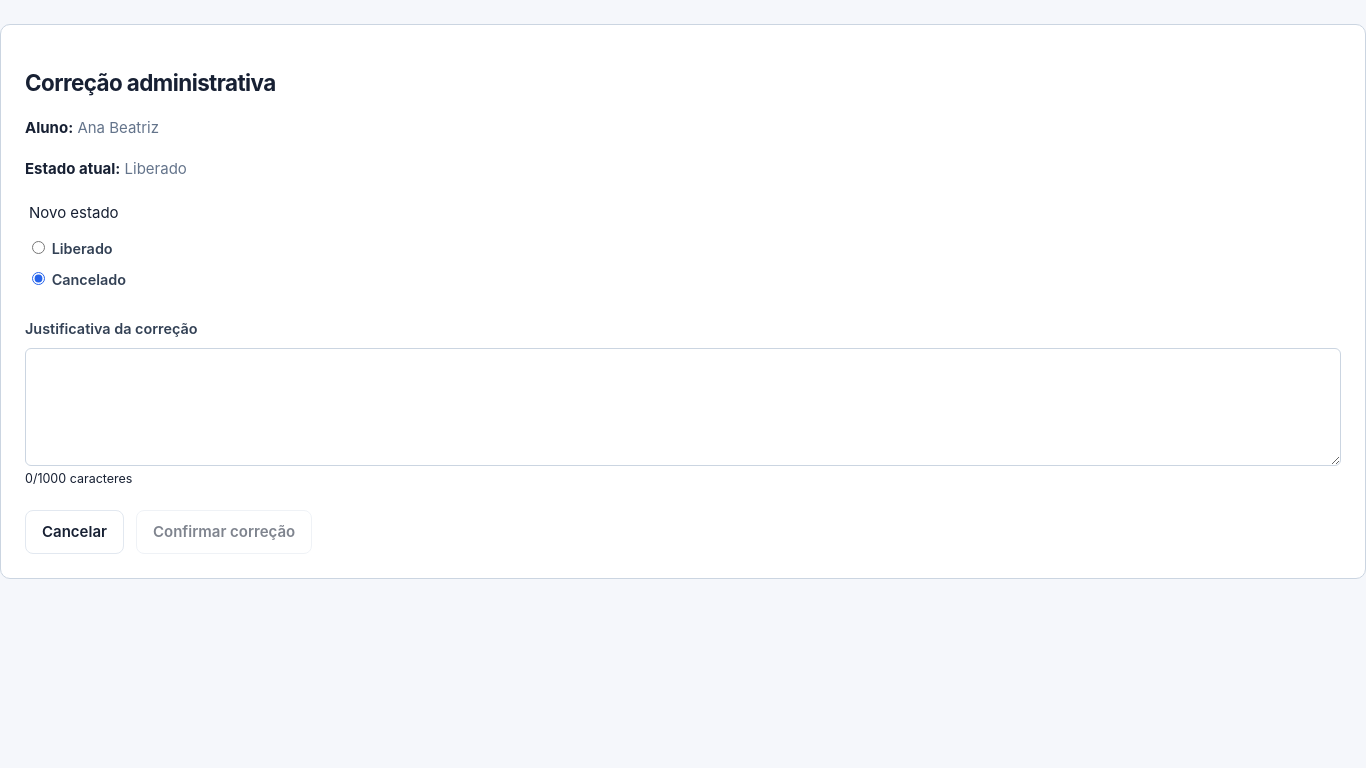
it: CorrecaoLiberacao › mostra erro quando a API rejeita a correção
In the text box labelled "Justificativa da correção": (683, 407) 25,348 -> 1341,466, type "Correção solicitada pela escola."
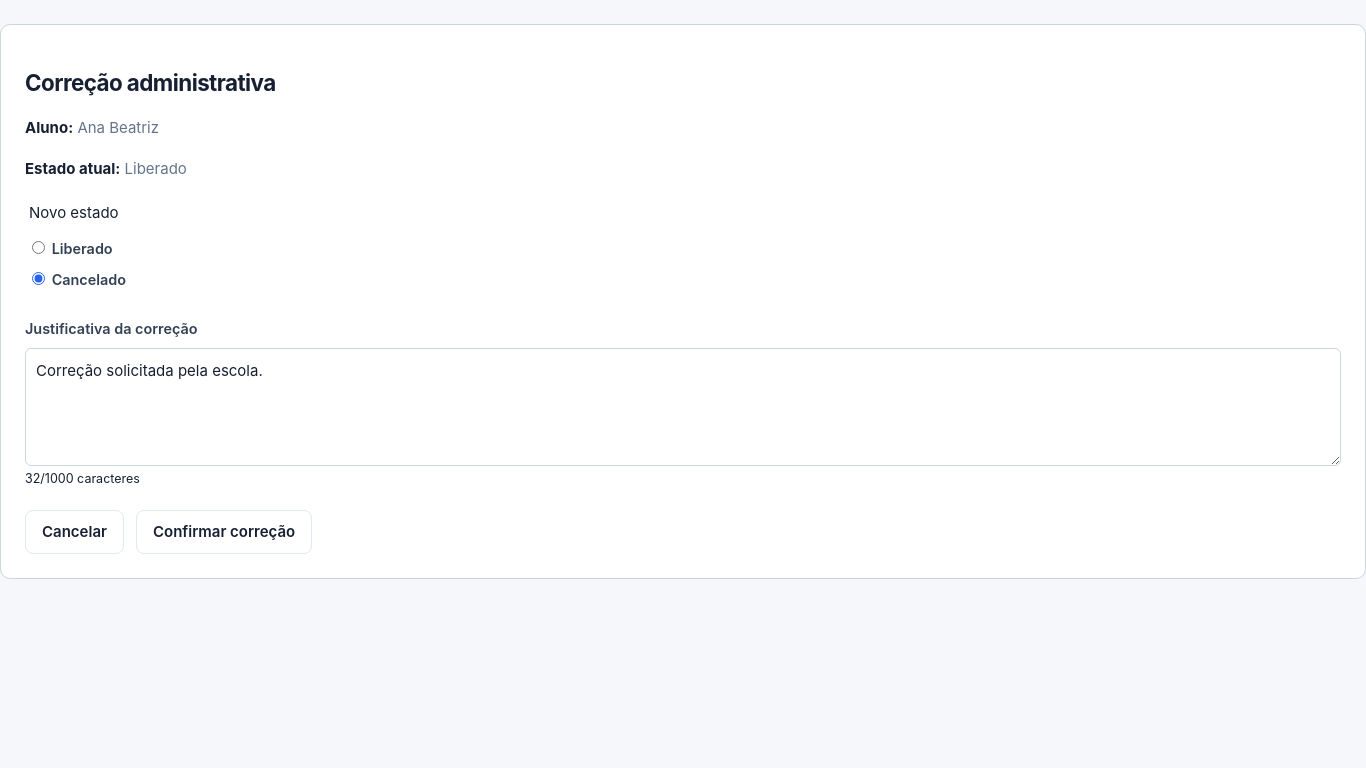
Click the button "Confirmar correção": (224, 532) 136,510 -> 312,554
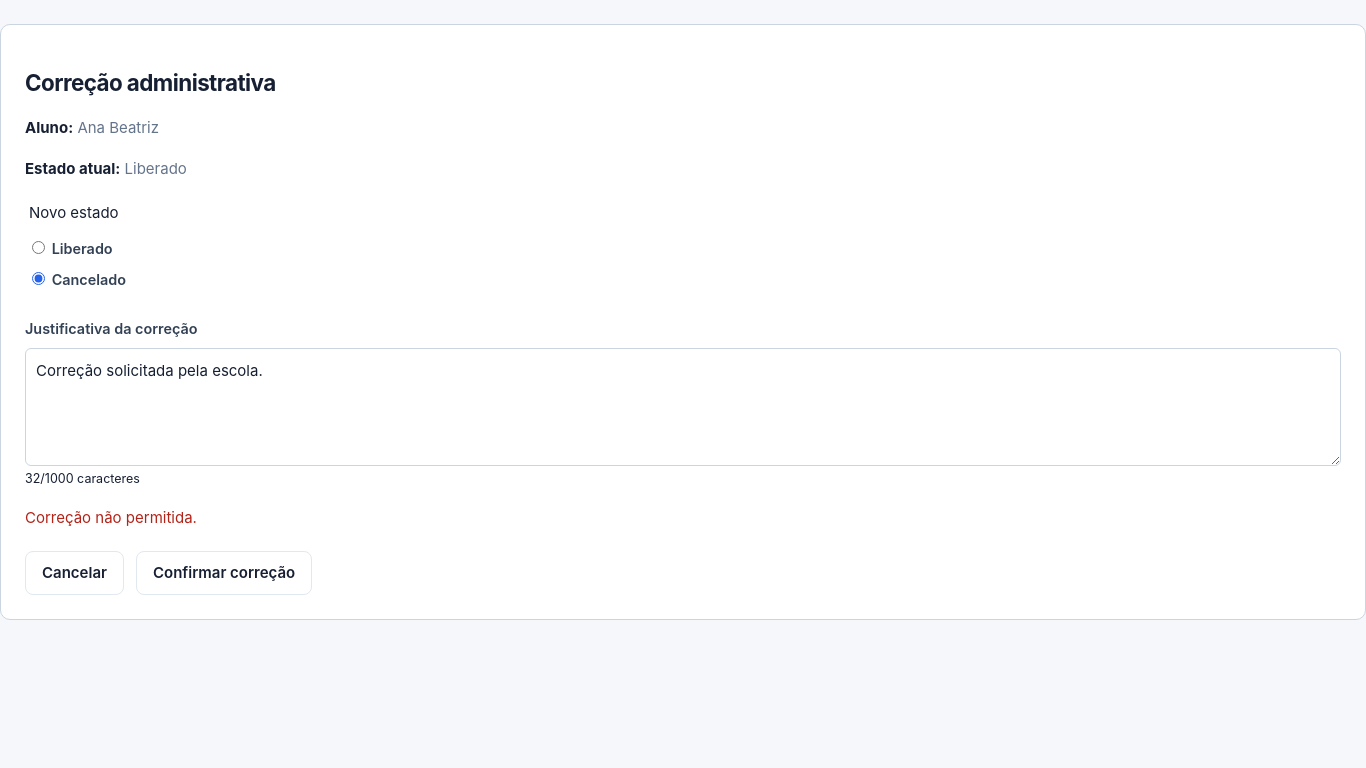
Check: the message reads "Correção não permitida.", box 25,508 -> 197,527
